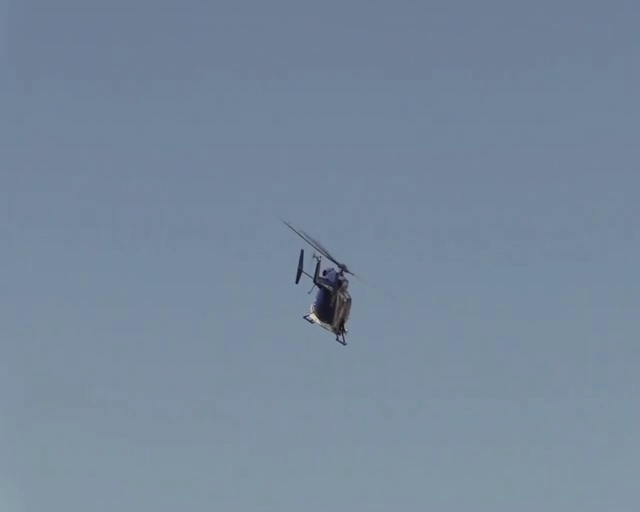HELICOPTER: (282, 217, 395, 345)
